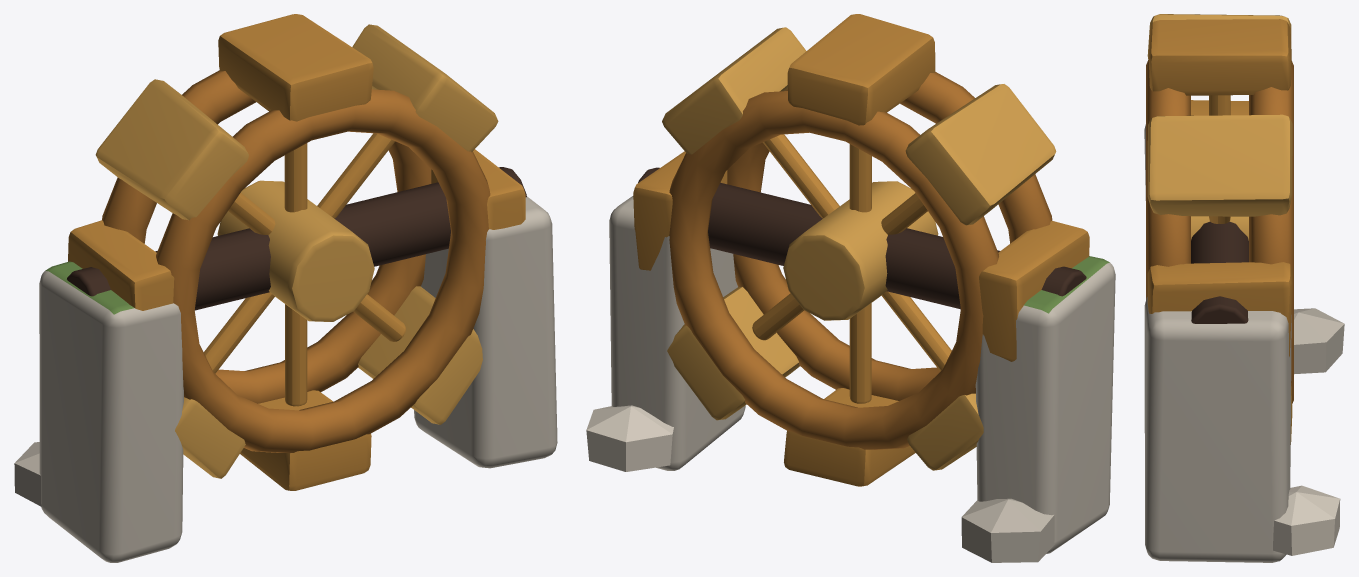
The model's file is prop_water_wheel.glb.
3 views of the same model, side by side, from view 1: azimuth 30°, elevation 25°; view 2: azimuth 150°, elevation 25°; view 3: azimuth 270°, elevation 25° (orthographic). The views are drawn at different scales.
Visible parts, largest first — view 1: water_wheel_pier_-1, wheel_rim_-0.16, water_wheel_pier_1, wheel_rim_0.16, wheel_paddle_3, water_wheel_axle_fixed, wheel_paddle_2, wheel_hub, wheel_paddle_1, wheel_paddle_4, wheel_paddle_7, wheel_paddle_6 (+9 smaller); view 2: wheel_rim_0.16, water_wheel_pier_-1, water_wheel_pier_1, wheel_rim_-0.16, wheel_paddle_3, water_wheel_axle_fixed, wheel_paddle_2, wheel_hub, wheel_paddle_4, wheel_paddle_1, wheel_paddle_7, water_wheel_foot_-1 (+10 smaller); view 3: water_wheel_pier_1, wheel_paddle_1, wheel_paddle_2, wheel_paddle_0, wheel_rim_0.16, wheel_rim_-0.16, water_wheel_foot_1, water_wheel_axle_fixed, water_wheel_foot_-1, wheel_paddle_3, wheel_paddle_4, wheel_hub (+1 smaller).
Part boxes in pixels (left/top/right/bottom): water_wheel_pier_-1: left=39, top=261, right=183, bottom=562; wheel_rim_-0.16: left=156, top=89, right=490, bottom=452; water_wheel_pier_1: left=414, top=196, right=557, bottom=468; wheel_rim_0.16: left=102, top=70, right=431, bottom=403; wheel_paddle_3: left=95, top=79, right=248, bottom=220; water_wheel_axle_fixed: left=67, top=167, right=526, bottom=310; wheel_paddle_2: left=218, top=14, right=373, bottom=121; wheel_hub: left=217, top=180, right=374, bottom=321; wheel_paddle_1: left=352, top=24, right=498, bottom=152; wheel_paddle_4: left=68, top=220, right=174, bottom=310; wheel_paddle_7: left=358, top=286, right=482, bottom=424; wheel_paddle_6: left=240, top=390, right=371, bottom=490; wheel_rim_0.16: left=669, top=91, right=998, bottom=449; water_wheel_pier_-1: left=975, top=256, right=1115, bottom=553; water_wheel_pier_1: left=609, top=196, right=745, bottom=470; wheel_rim_-0.16: left=727, top=72, right=1052, bottom=400; wheel_paddle_3: left=905, top=84, right=1056, bottom=225; water_wheel_axle_fixed: left=638, top=167, right=1086, bottom=309; wheel_paddle_2: left=787, top=14, right=935, bottom=125; wheel_hub: left=783, top=181, right=938, bottom=320; wheel_paddle_4: left=979, top=221, right=1089, bottom=361; wheel_paddle_1: left=662, top=27, right=806, bottom=154; wheel_paddle_7: left=667, top=286, right=799, bottom=420; water_wheel_foot_-1: left=961, top=498, right=1054, bottom=562; water_wheel_pier_1: left=1144, top=296, right=1291, bottom=562; wheel_paddle_1: left=1147, top=114, right=1292, bottom=216; wheel_paddle_2: left=1148, top=19, right=1291, bottom=95; wheel_paddle_0: left=1147, top=262, right=1292, bottom=356; wheel_rim_0.16: left=1249, top=61, right=1293, bottom=404; wheel_rim_-0.16: left=1146, top=59, right=1190, bottom=299; water_wheel_foot_1: left=1273, top=485, right=1340, bottom=555; water_wheel_axle_fixed: left=1191, top=221, right=1248, bottom=323; water_wheel_foot_-1: left=1294, top=308, right=1344, bottom=374; wheel_paddle_3: left=1147, top=14, right=1291, bottom=58; wheel_paddle_4: left=1191, top=100, right=1248, bottom=115; wheel_hub: left=1191, top=216, right=1248, bottom=240.
Size of the model in its own units: 1.61 by 1.48 by 0.6226.
